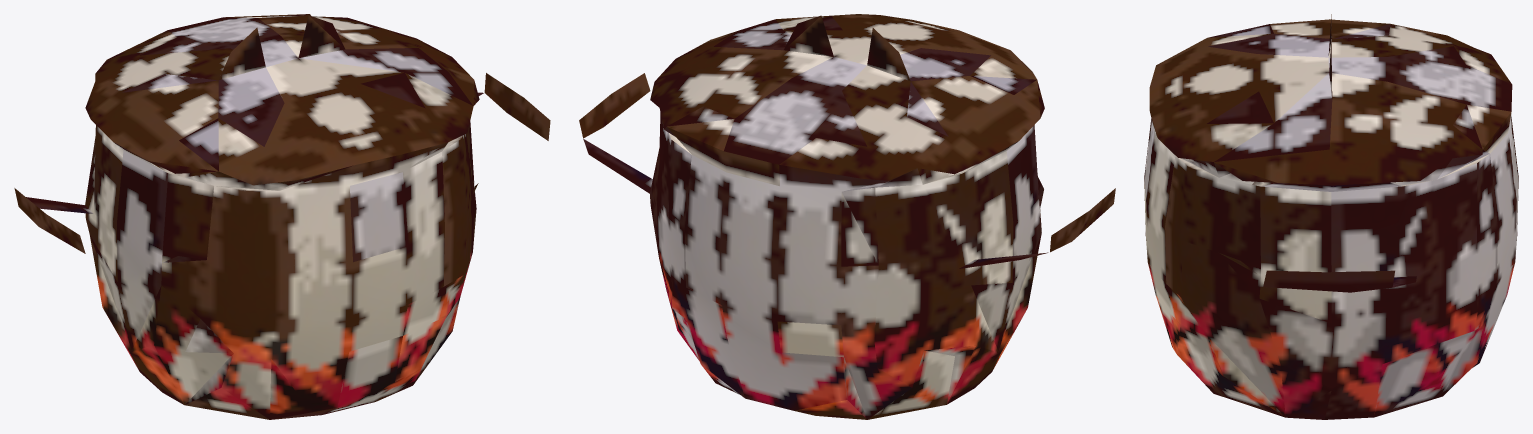
File: pot_enamel_01.glb
3 views of the same model, side by side, from view 1: azimuth 30°, elevation 25°; view 2: azimuth 150°, elevation 25°; view 3: azimuth 270°, elevation 25° (orthographic).
Visible parts, largest first — view 1: mesh; view 2: mesh; view 3: mesh.
Boxes of the visible parts, left/top/right/bottom form: mesh: left=14, top=14, right=550, bottom=419; mesh: left=579, top=14, right=1115, bottom=419; mesh: left=1144, top=14, right=1518, bottom=419.
Bounding box in the file's own units: 0.2621 × 0.1783 × 0.1805.
Materials: 1 (1 with a texture image).
